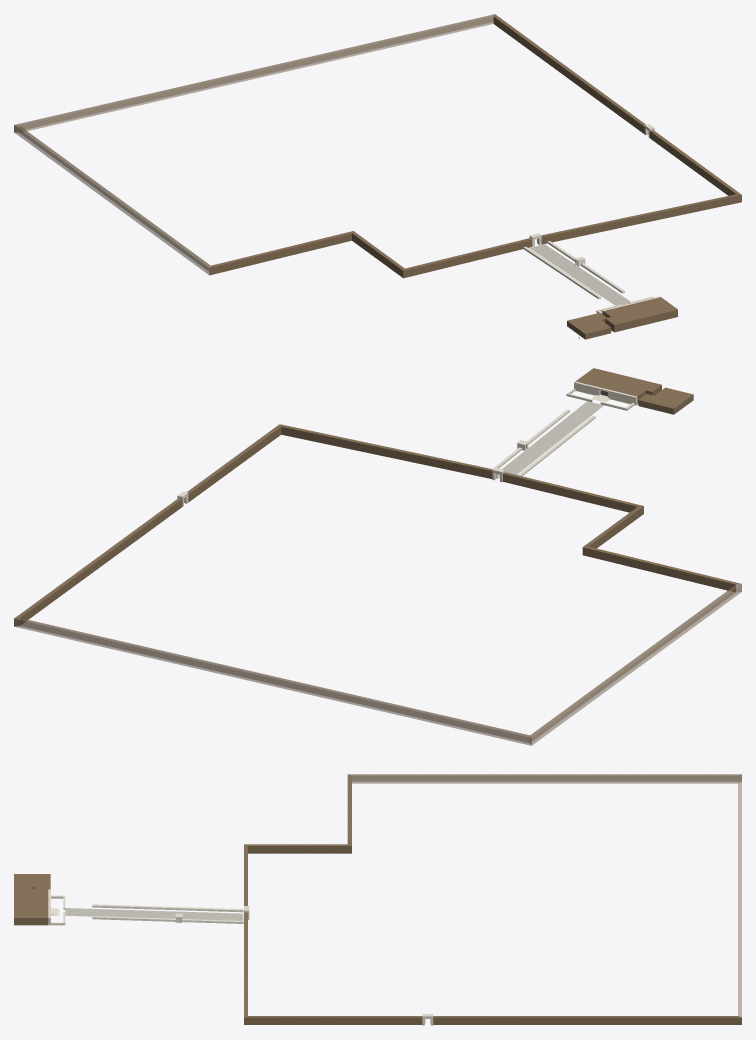
The model's file is Serapeum_LP.glb.
The picture shows the model from 3 angles, top to bottom: view 1: azimuth 30°, elevation 25°; view 2: azimuth 150°, elevation 25°; view 3: azimuth 270°, elevation 25°; orthographic projection. The views are drawn at different scales.
Visible parts, largest first — view 1: Mesh3 Model, Mesh6 Model, Mesh8 Model, Mesh7 Model; view 2: Mesh3 Model, Mesh6 Model, Mesh8 Model, Mesh7 Model; view 3: Mesh3 Model, Mesh6 Model, Mesh8 Model, Mesh5 Model, Mesh7 Model.
Boxes of the visible parts, x1=… form: Mesh3 Model: x1=14, y1=14, x2=741, y2=278; Mesh6 Model: x1=596, y1=296, x2=677, y2=332; Mesh8 Model: x1=529, y1=244, x2=630, y2=305; Mesh7 Model: x1=567, y1=312, x2=611, y2=339; Mesh3 Model: x1=14, y1=424, x2=741, y2=745; Mesh6 Model: x1=566, y1=368, x2=661, y2=410; Mesh8 Model: x1=498, y1=401, x2=603, y2=478; Mesh7 Model: x1=638, y1=387, x2=693, y2=414; Mesh3 Model: x1=244, y1=774, x2=741, y2=1025; Mesh6 Model: x1=14, y1=886, x2=65, y2=925; Mesh8 Model: x1=65, y1=908, x2=243, y2=920; Mesh5 Model: x1=92, y1=904, x2=243, y2=912; Mesh7 Model: x1=14, y1=874, x2=50, y2=889.
Bounding box in the file's own units: 271 × 10.5 × 351.
8 materials, 7 textured.
